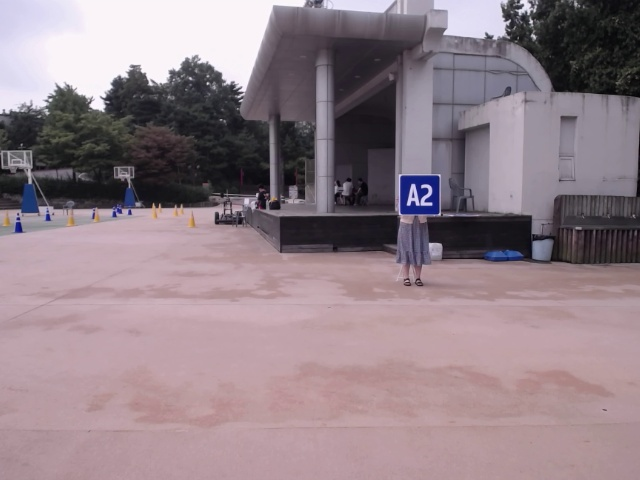delivery_a2: (399, 174, 441, 216)
